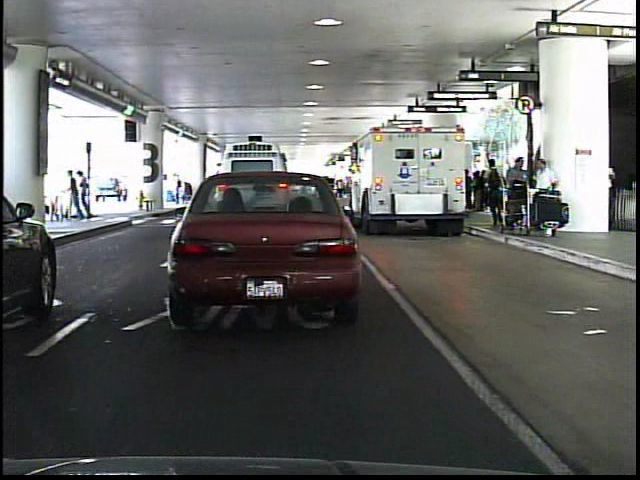person: (60, 167, 81, 223)
